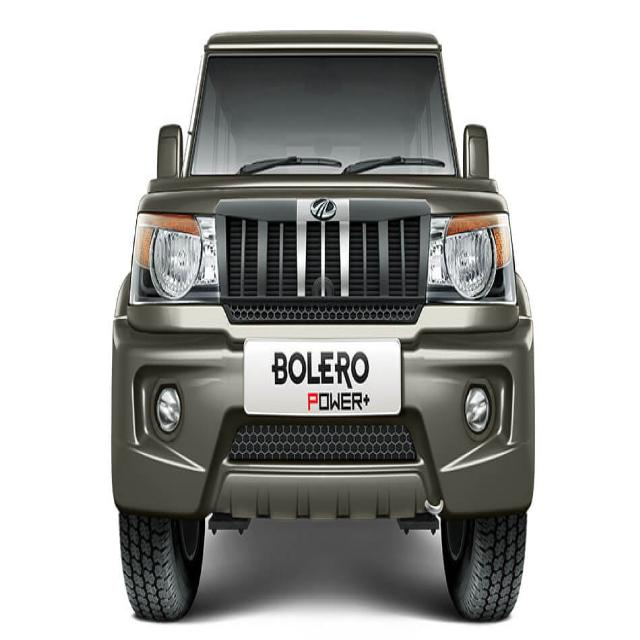light_vehicle: (110, 31, 530, 618)
